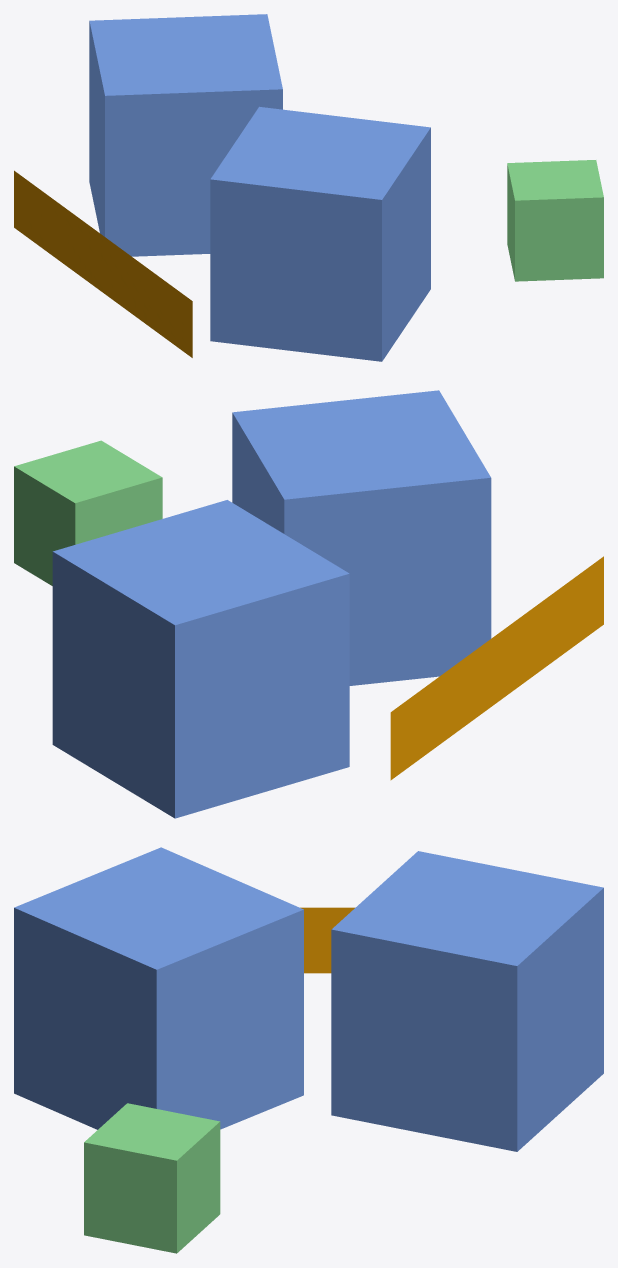
File: testScene_refraction.dae
3 views of the same model, one above another, from view 1: azimuth 30°, elevation 25°; view 2: azimuth 150°, elevation 25°; view 3: azimuth 270°, elevation 25° (orthographic). The views are drawn at different scales.
Visible parts, largest first — view 1: Cube_011, Cube_010, Cube_009, Plane_008; view 2: Cube_010, Cube_011, Plane_008, Cube_009; view 3: Cube_010, Cube_011, Cube_009, Plane_008.
Boxes of the visible parts, x1,y1,x2,y2 form: Cube_011: (210, 106, 430, 361); Cube_010: (89, 14, 282, 256); Cube_009: (507, 160, 603, 281); Plane_008: (14, 170, 192, 357); Cube_010: (52, 500, 349, 818); Cube_011: (232, 390, 491, 685); Plane_008: (390, 556, 603, 780); Cube_009: (14, 440, 162, 585); Cube_010: (331, 851, 603, 1151); Cube_011: (14, 847, 303, 1129); Cube_009: (84, 1103, 220, 1253); Plane_008: (300, 907, 354, 973).
Size of what is drawn, in the model's own units: 2.9 by 2.88 by 1.
